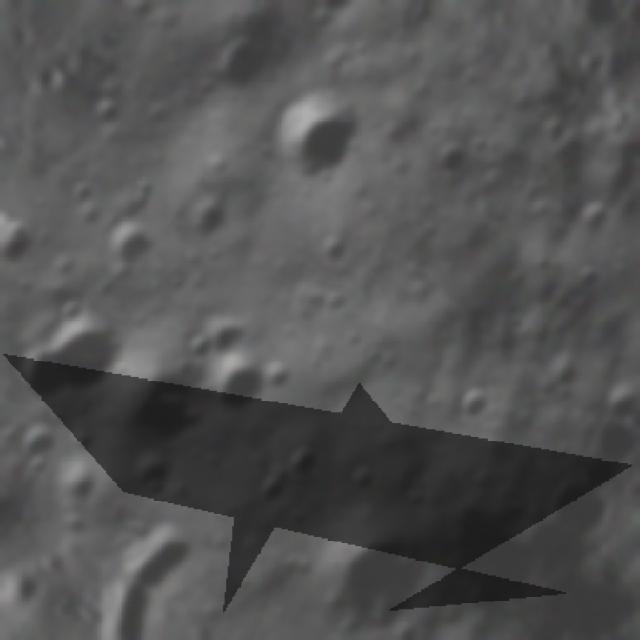crater: (250, 71, 373, 200), (9, 296, 133, 418), (104, 499, 214, 607), (197, 354, 275, 426), (22, 416, 69, 464), (281, 440, 325, 489), (45, 99, 81, 158), (562, 255, 607, 300), (244, 470, 288, 516), (600, 374, 640, 424), (462, 388, 506, 432), (121, 172, 161, 217), (179, 331, 218, 371), (315, 281, 350, 321), (0, 217, 32, 257), (577, 201, 614, 233), (372, 638, 456, 640), (0, 363, 2, 412)
